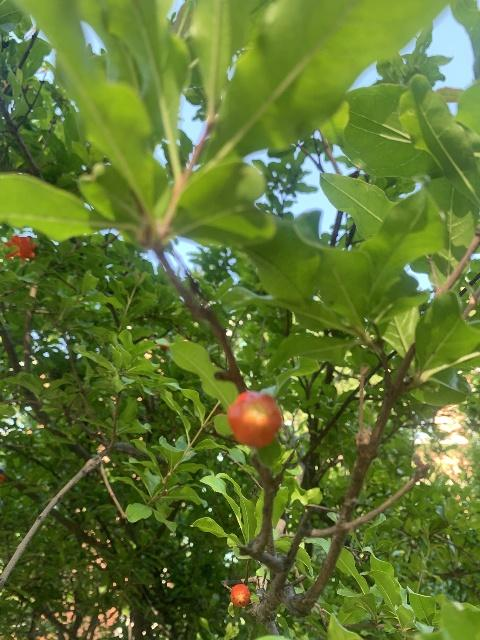bud: (227, 391, 282, 448), (230, 584, 250, 607)
flower: (3, 235, 38, 263)
